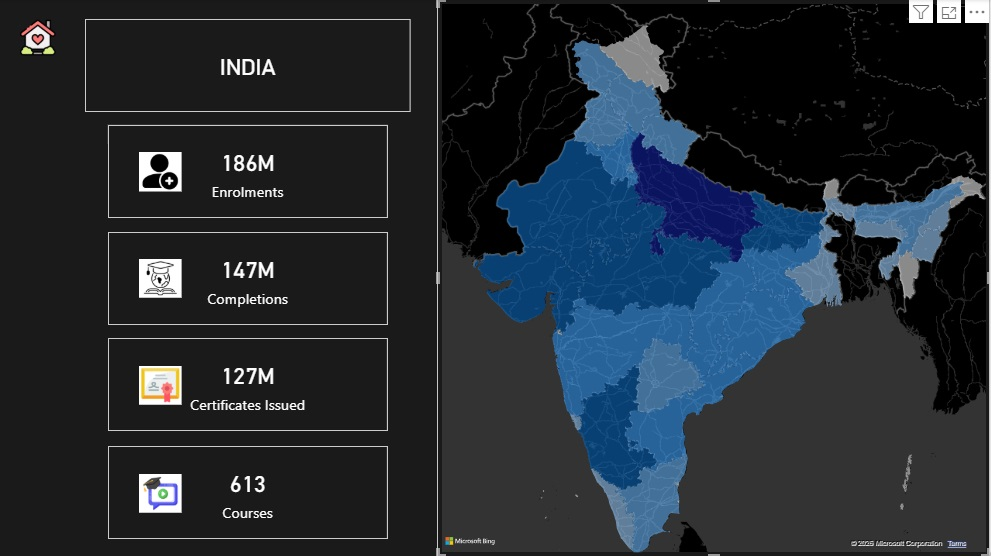

Layout of this report page (visuals, bound fields, positions):
{"tool":"powerbi","page":{"name":"Course Metrics","canvas":[1280,720],"ordinal":6},"visuals":[{"type":"filledMap","fields":{"Category":["state_usage_summary.State/UT"]},"box":[566.5,0,713.5,720],"z":0},{"type":"card","fields":{"Values":["Registered_Users_States.Selected State"]},"box":[112.9,26.2,420,120],"z":1000},{"type":"card","title":"Enrolments","fields":{"Values":["Sum(state_usage_summary.Enrolments)"]},"box":[141.8,162.4,360.6,120],"z":2000},{"type":"card","title":"Enrolments","fields":{"Values":["Sum(state_usage_summary.Completions)"]},"box":[141.8,300,360.6,120],"z":3000},{"type":"card","title":"Enrolments","fields":{"Values":["Sum(state_usage_summary.Certificates Issued)"]},"box":[141.8,437.7,360.6,120],"z":4000},{"type":"card","title":"Enrolments","fields":{"Values":["Sum(state_usage_summary.Courses)"]},"box":[141.8,576.7,360.6,120],"z":5000},{"type":"image","box":[28.4,25.8,46.5,47.7],"z":6000},{"type":"image","box":[181.7,196.8,55.1,50.9],"z":7000},{"type":"image","box":[181.7,335.8,55.1,49.5],"z":8000},{"type":"image","box":[181.7,473.5,55.1,49.5],"z":9000},{"type":"image","box":[181.7,612.5,55.1,49.5],"z":10000},{"type":"shape","box":[141.4,162.2,360.2,120.6],"z":11000},{"type":"shape","box":[141.4,300.7,360.2,120.6],"z":12000},{"type":"shape","box":[141.4,437.6,360.2,120.6],"z":13000}]}

Visuals, with their boxes in screenshot pixels (x1, y1, x2, y2), scaled from the page's 1280x720 canvas onto the 991x556 screenshot:
filledMap - state_usage_summary.State/UT: (x1=439, y1=0, x2=990, y2=555)
card - Registered_Users_States.Selected State: (x1=87, y1=20, x2=413, y2=113)
"Enrolments" card: (x1=110, y1=125, x2=389, y2=218)
"Enrolments" card: (x1=110, y1=232, x2=389, y2=324)
"Enrolments" card: (x1=110, y1=338, x2=389, y2=431)
"Enrolments" card: (x1=110, y1=445, x2=389, y2=538)
image: (x1=22, y1=20, x2=58, y2=57)
image: (x1=141, y1=152, x2=183, y2=191)
image: (x1=141, y1=259, x2=183, y2=298)
image: (x1=141, y1=366, x2=183, y2=404)
image: (x1=141, y1=473, x2=183, y2=511)
shape: (x1=109, y1=125, x2=388, y2=218)
shape: (x1=109, y1=232, x2=388, y2=325)
shape: (x1=109, y1=338, x2=388, y2=431)
